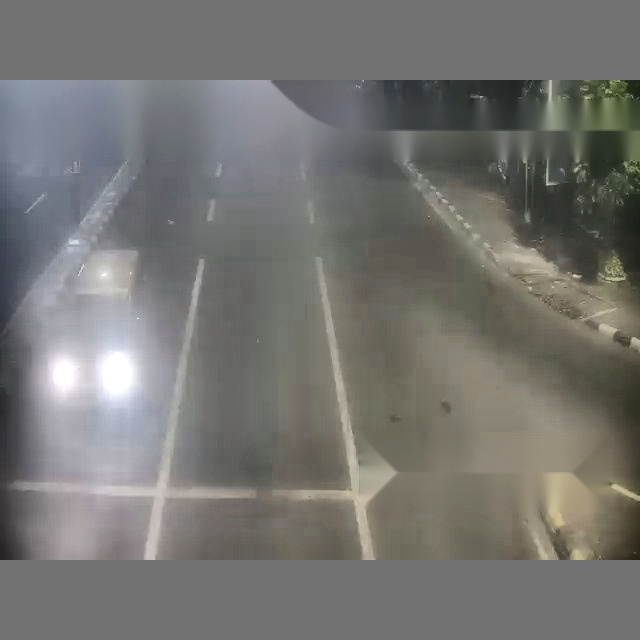Truk: (184, 81, 640, 557)
